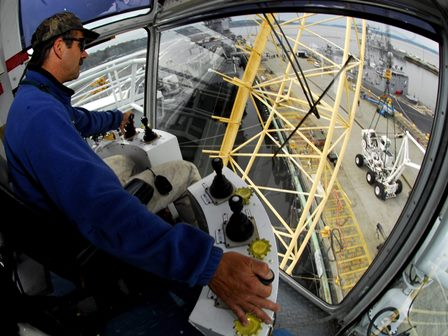crane-operator: (16, 10, 126, 185)
